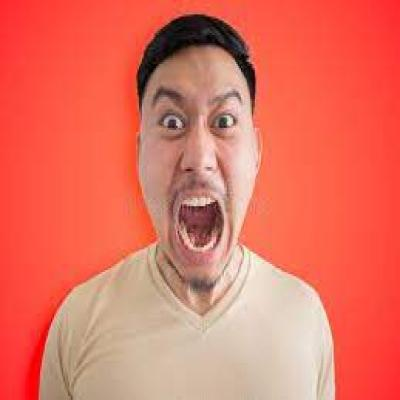angry: (135, 26, 259, 282)
